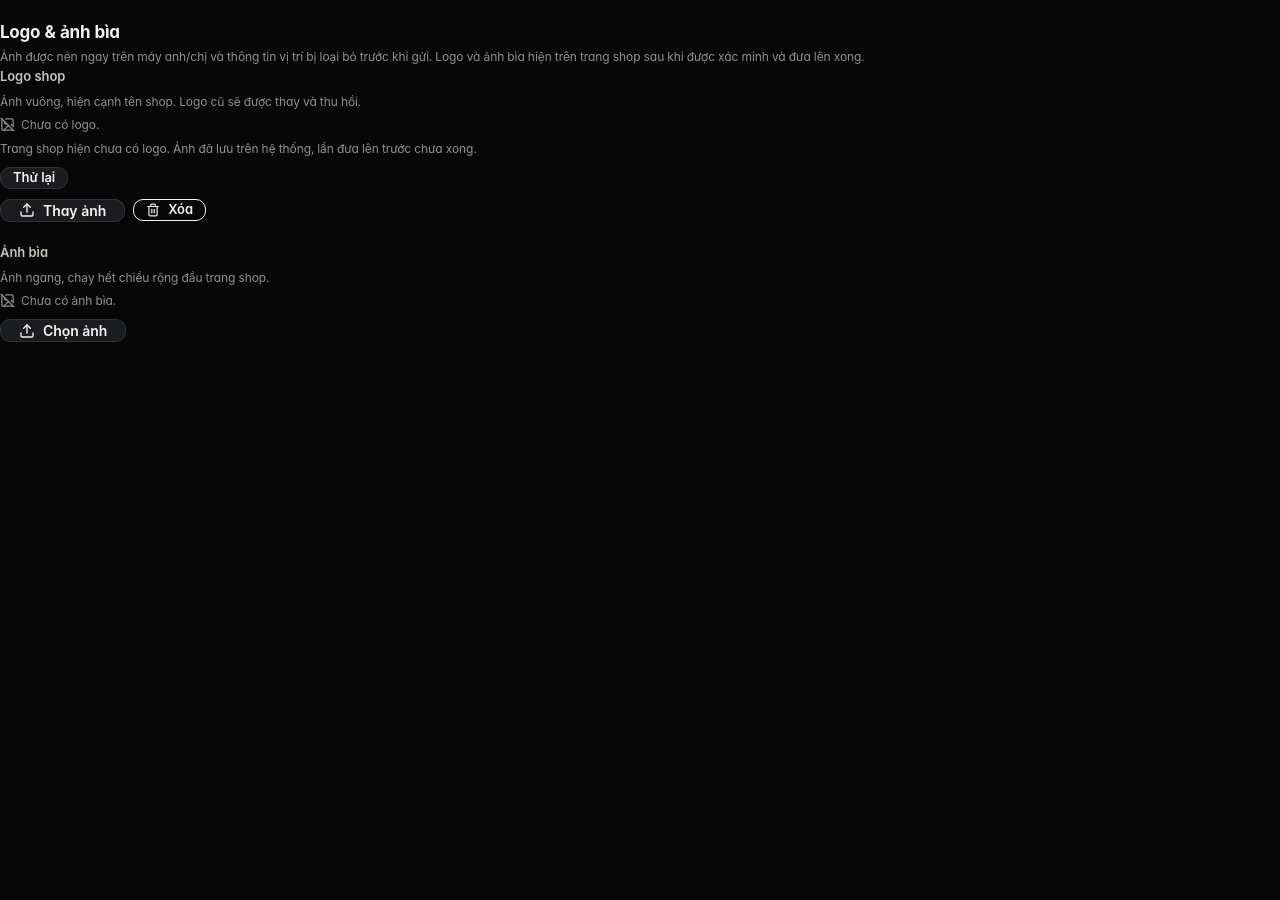
publishing the logo and cover › keeps the seller's shop page refusal word for word
Click the button with aria-label "Thử đưa logo lên trang shop lại". click: (34, 178)
box: [0,167,68,189]
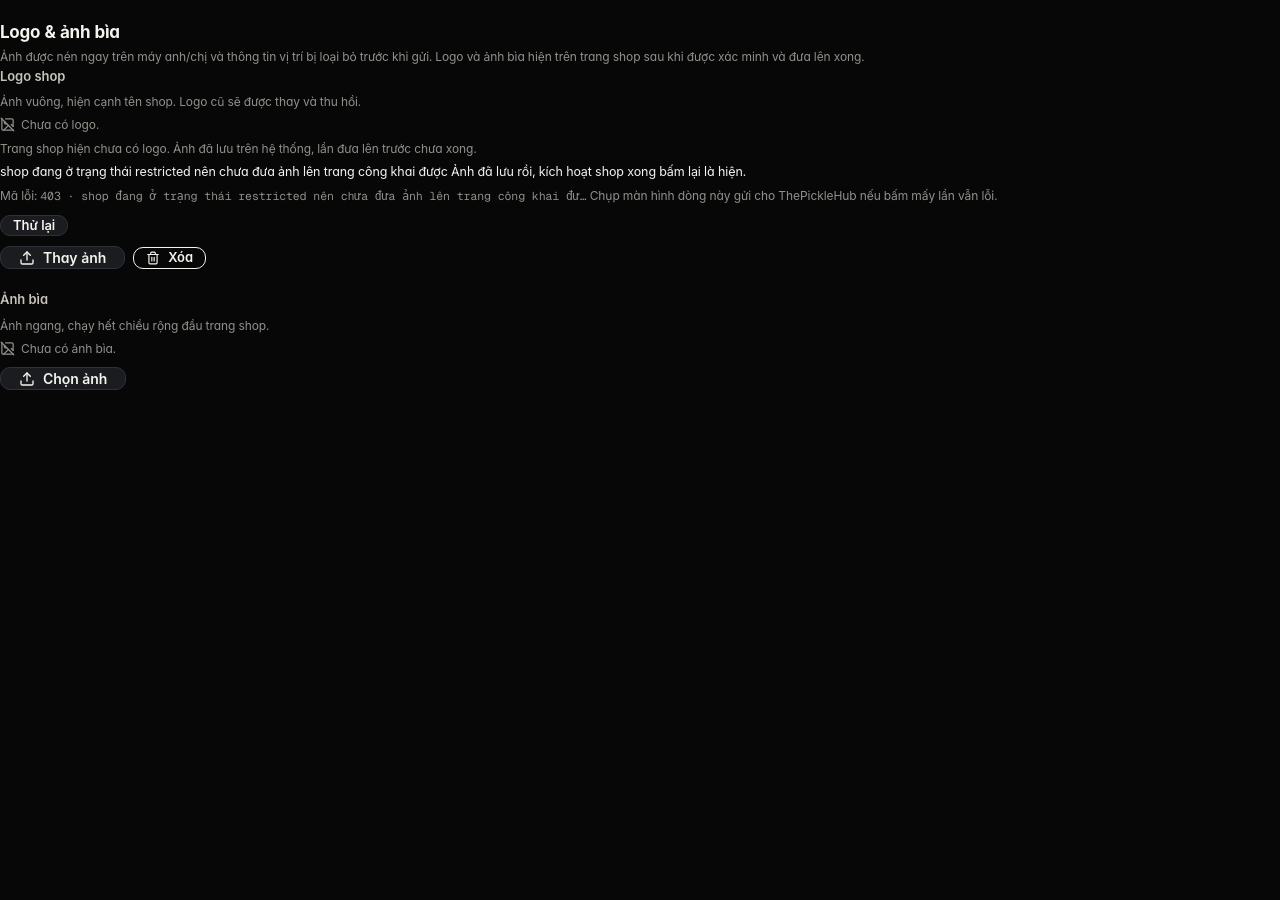
Expected: the message shows "shop đang ở trạng thái restricted", [0,164,746,179]
